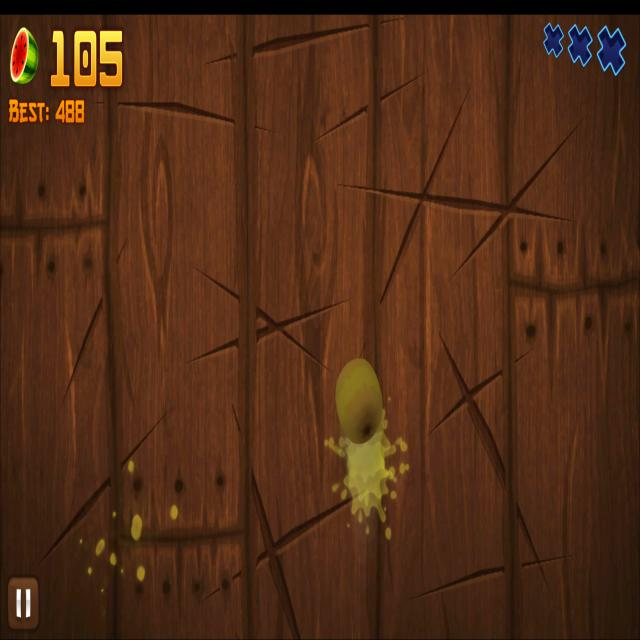fruit: (336, 356, 384, 446)
